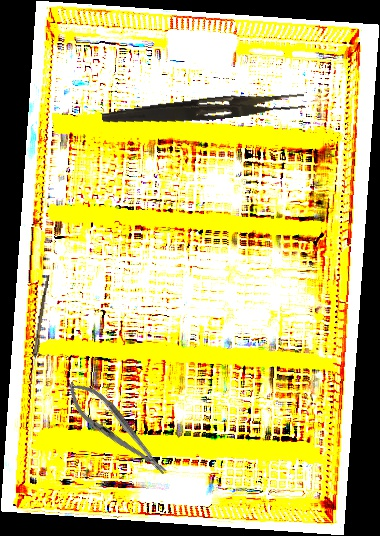Dressing Forceps: (101, 85, 306, 134)
Needle Holder: (58, 372, 176, 486)
Surgical Spoon: (28, 275, 50, 386)
